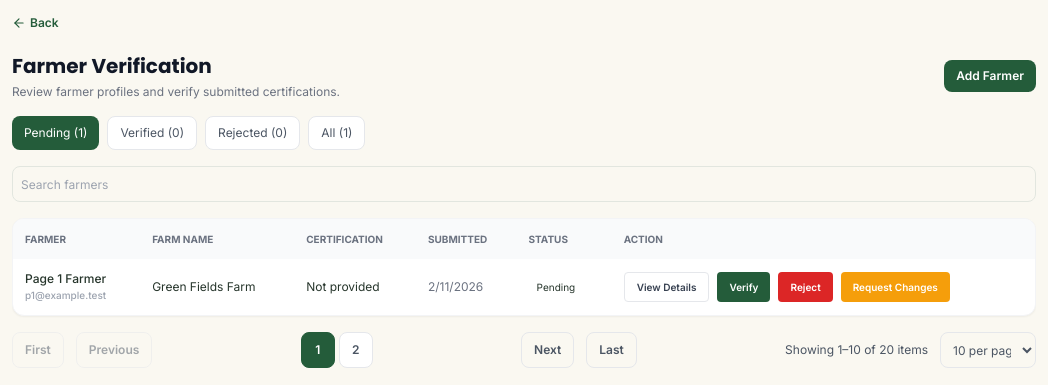
it: Admin farmer management › Server-side pagination › fetches page 1 when clicking Previous from page 2
Check: the text "Page 1 Farmer" is shown, box [25,271,106,286]
Click the button "Next": (548, 350) [521,332,574,368]
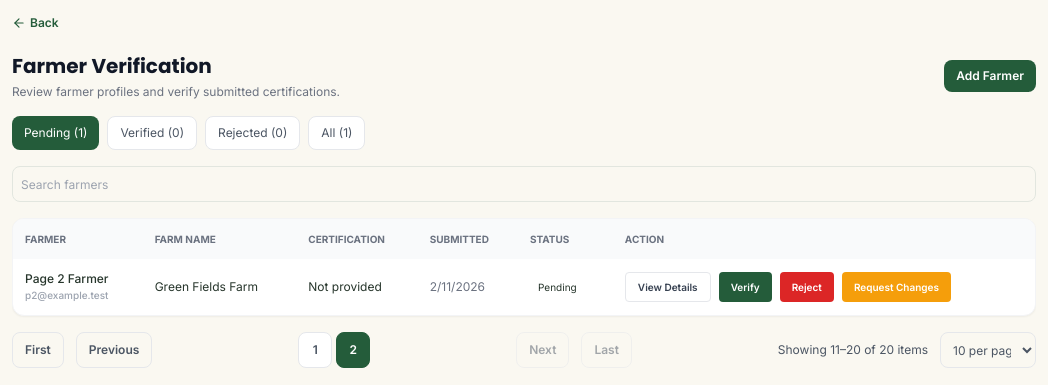
Check: the text "Page 2 Farmer" is shown, box [25,271,108,286]
Click the button "Previous": (114, 350) [76,332,152,368]
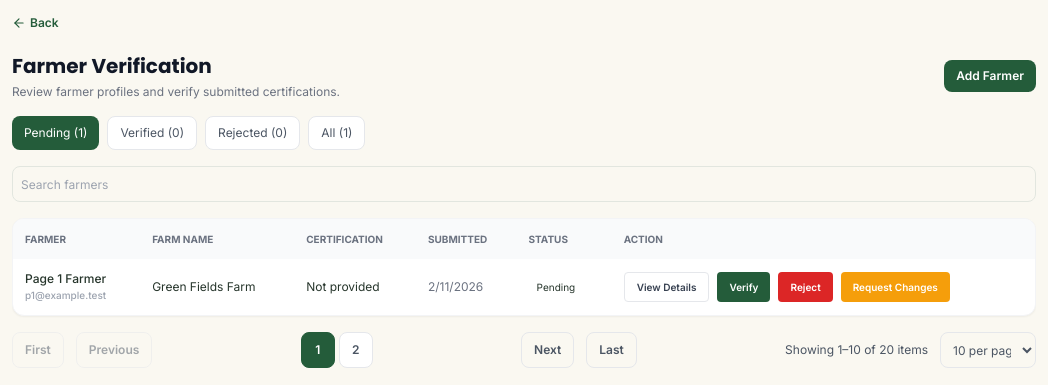
Check: the text "Page 1 Farmer" is shown, box [25,271,106,286]
